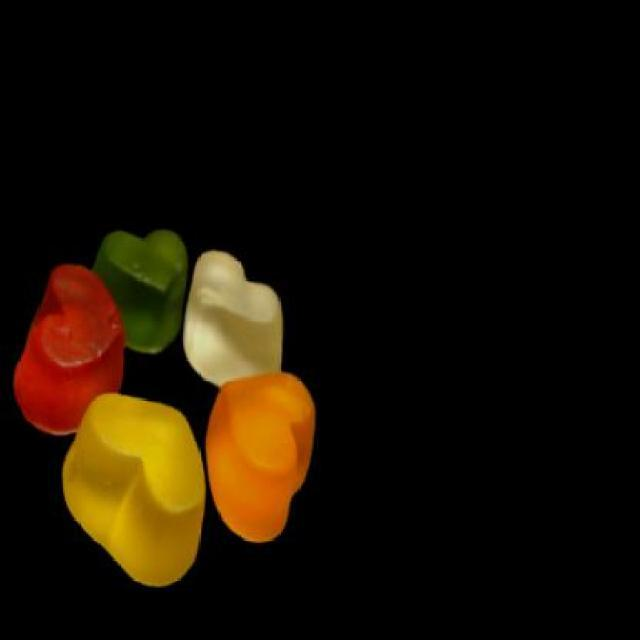Candy: (11, 226, 318, 588), (21, 262, 125, 432)
